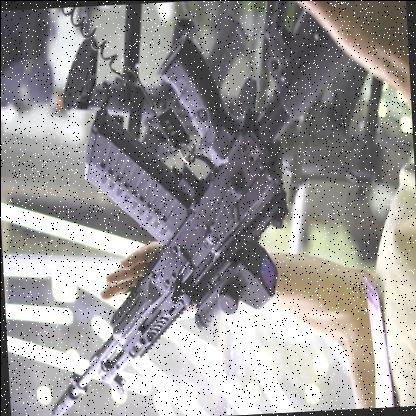rifle: (49, 5, 373, 416)
